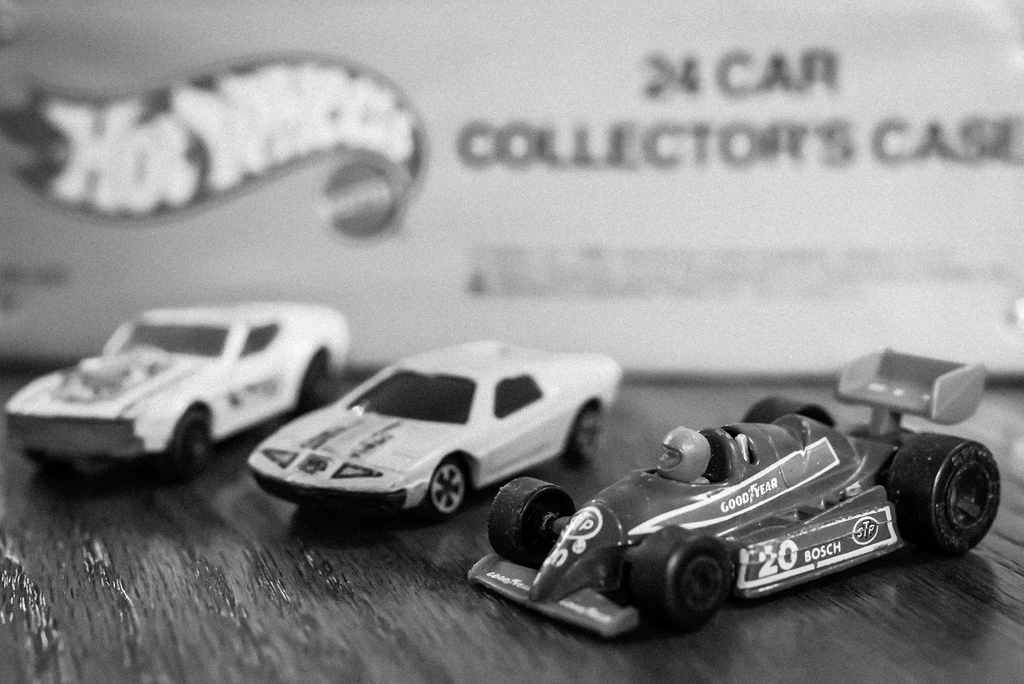mobil: (11, 298, 323, 474)
